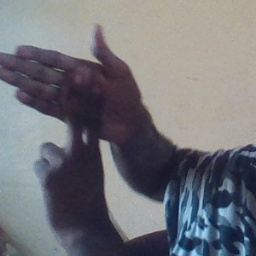N: (4, 17, 128, 193)
